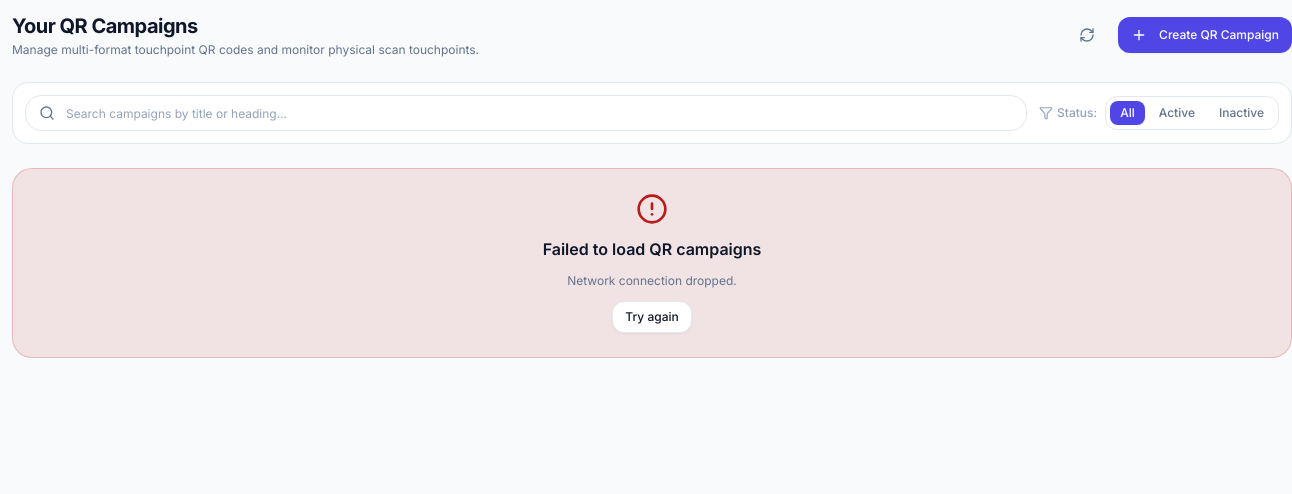
CampaignList Component › should display error state and retry on click
Check: the message "Failed to load QR campaigns Network connection dropped. Try again" is shown, box [12,168,1291,358]
Check: the text "Network connection dropped." is shown, box [567,273,737,289]
Click the button "Try again": (652, 317) [612,301,692,333]
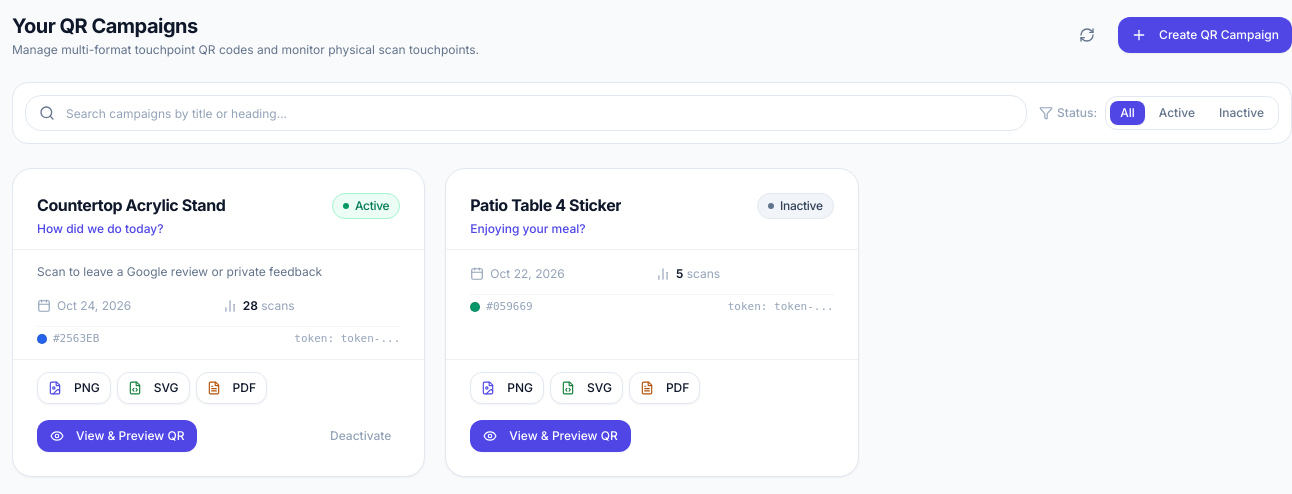
Check: the heading "Countertop Acrylic Stand" is shown, box [37,193,226,217]
